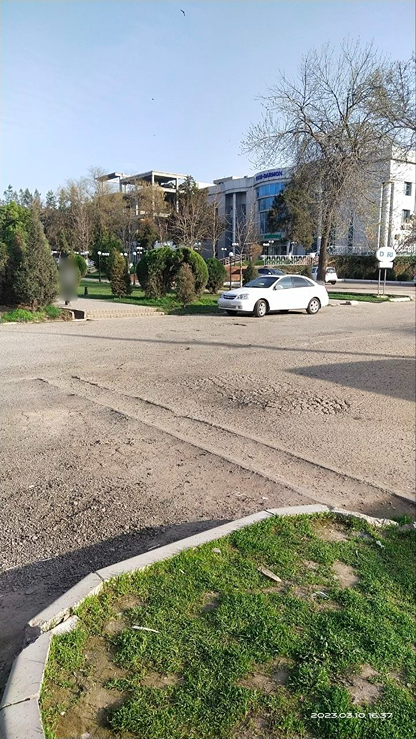car: (221, 272, 344, 315)
tree: (244, 29, 401, 254), (0, 208, 55, 309), (159, 181, 219, 249), (109, 249, 133, 297)
